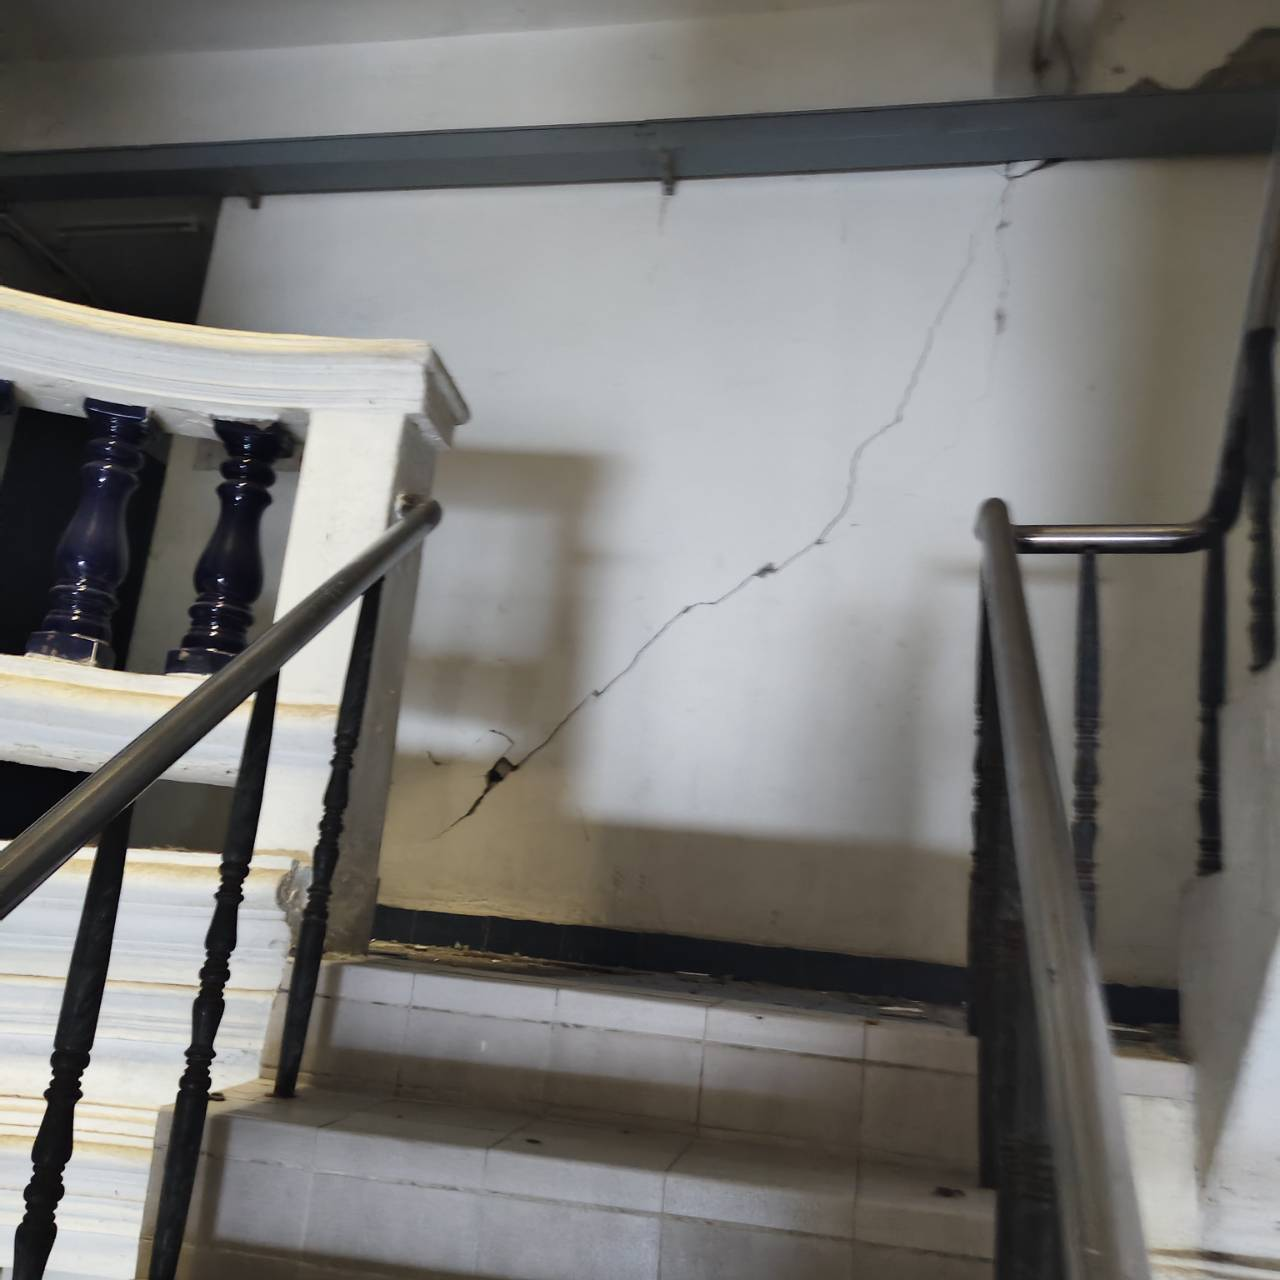Medium: (471, 372, 946, 813)
